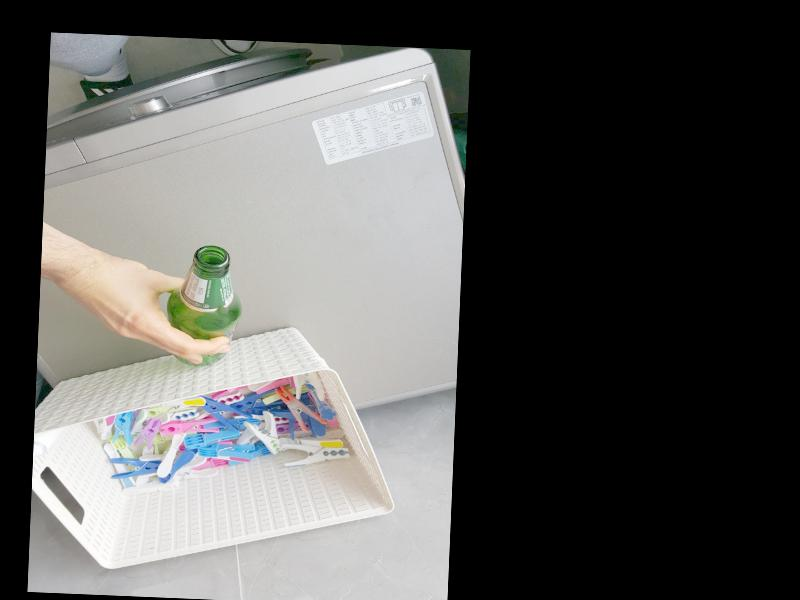Beer: (165, 243, 244, 367)
